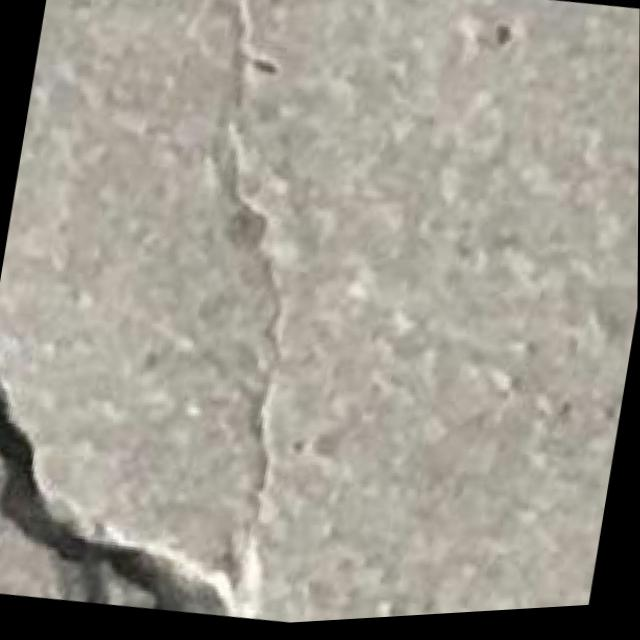Crack: (111, 0, 369, 631), (0, 339, 281, 632)
